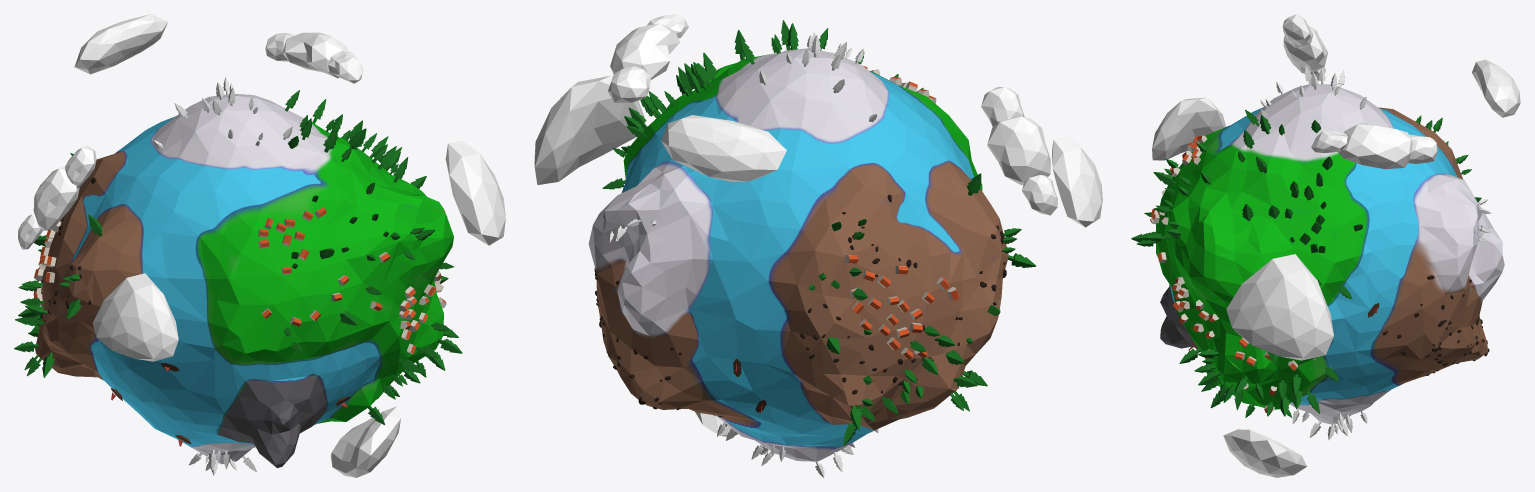
File: earth_poly.glb
3 views of the same model, side by side, from view 1: azimuth 30°, elevation 25°; view 2: azimuth 150°, elevation 25°; view 3: azimuth 270°, elevation 25° (orthographic). The views are drawn at different scales.
Visible parts, largest first — view 1: earth.001, cloud.004, cloud.011, cloud.006, cloud.002, cloud.009, cloud.007; view 2: earth.001, cloud.011, cloud.009, cloud.006, cloud.002, cloud.004; view 3: earth.001, cloud.011, cloud.002, cloud.004, cloud.007, cloud.006, cloud.009.
Boxes of the visible parts, x1,y1,x2,y2 form: earth.001: (35,94,453,468); cloud.004: (92,273,178,361); cloud.011: (445,141,505,245); cloud.006: (18,145,96,249); cloud.002: (265,32,362,83); cloud.009: (74,14,167,74); cloud.007: (330,406,400,477); earth.001: (588,48,1008,461); cloud.011: (534,75,645,184); cloud.009: (661,115,786,181); cloud.006: (981,87,1057,215); cloud.002: (608,14,688,103); cloud.004: (1052,136,1102,227); earth.001: (1156,84,1504,424); cloud.011: (1226,254,1333,360); cloud.002: (1311,122,1437,169); cloud.004: (1152,97,1225,160); cloud.007: (1223,429,1306,477); cloud.006: (1282,14,1328,80); cloud.009: (1472,59,1520,117).
Size of the model in its own units: 3.18 by 2.56 by 2.49.
Materials: 2 (2 with a texture image).
